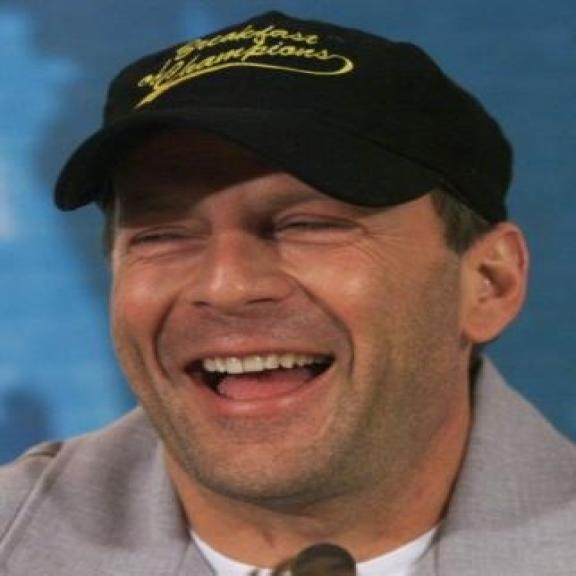face: (101, 149, 533, 512)
